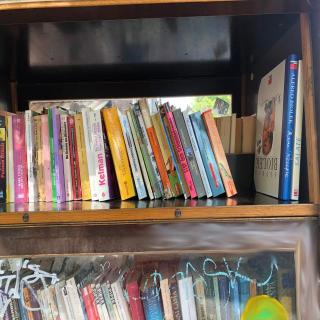book-spine: (137, 97, 175, 199), (163, 102, 197, 199), (102, 107, 136, 201), (155, 101, 187, 200), (134, 103, 167, 199), (172, 109, 207, 198), (189, 111, 225, 197), (202, 110, 237, 197), (130, 104, 162, 199), (149, 112, 184, 198), (159, 104, 191, 198), (182, 110, 213, 198), (129, 108, 157, 199), (118, 113, 147, 200), (126, 110, 154, 199), (283, 54, 299, 200), (292, 60, 306, 200), (89, 110, 110, 202), (81, 107, 99, 201), (73, 114, 92, 201), (11, 115, 28, 203), (66, 115, 82, 200), (60, 114, 74, 201), (41, 114, 53, 202), (51, 107, 61, 204), (47, 108, 57, 203), (36, 116, 46, 202), (25, 110, 34, 203), (0, 116, 7, 203), (34, 116, 41, 202)
